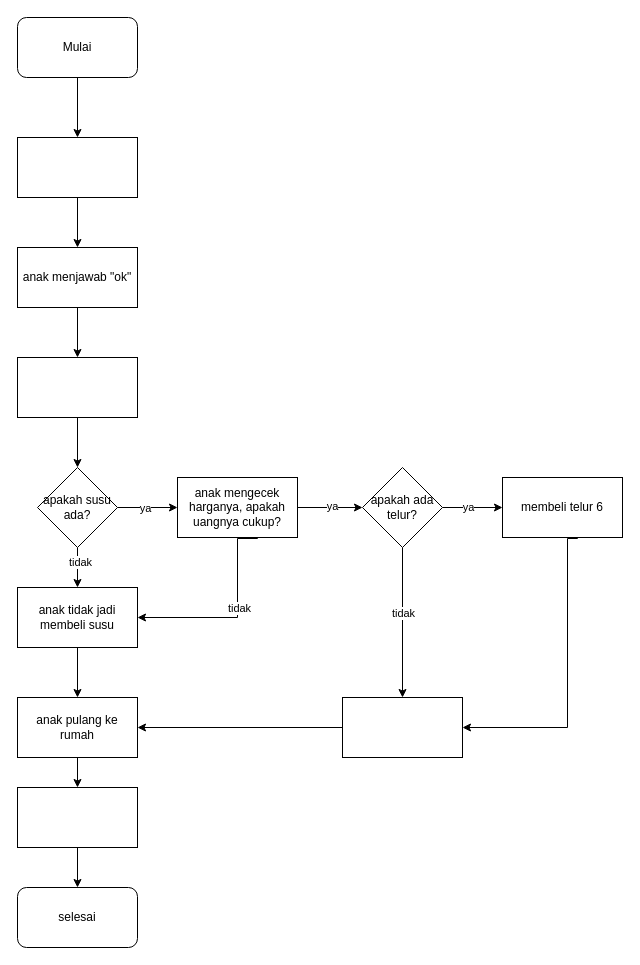
Some shapes in this 640 by 965 pixel diagram are drawn without their labels. Here are the shapes that lost their labels. From the top down, the centre of each, then its label:
point (77, 167): ibu memberi perintah, "Beli 1 botol susu"
point (77, 387): anak pergi ke toko
point (402, 727): anak membeli 1 botol susu
point (77, 817): menyerahkan hasil ke ibu
